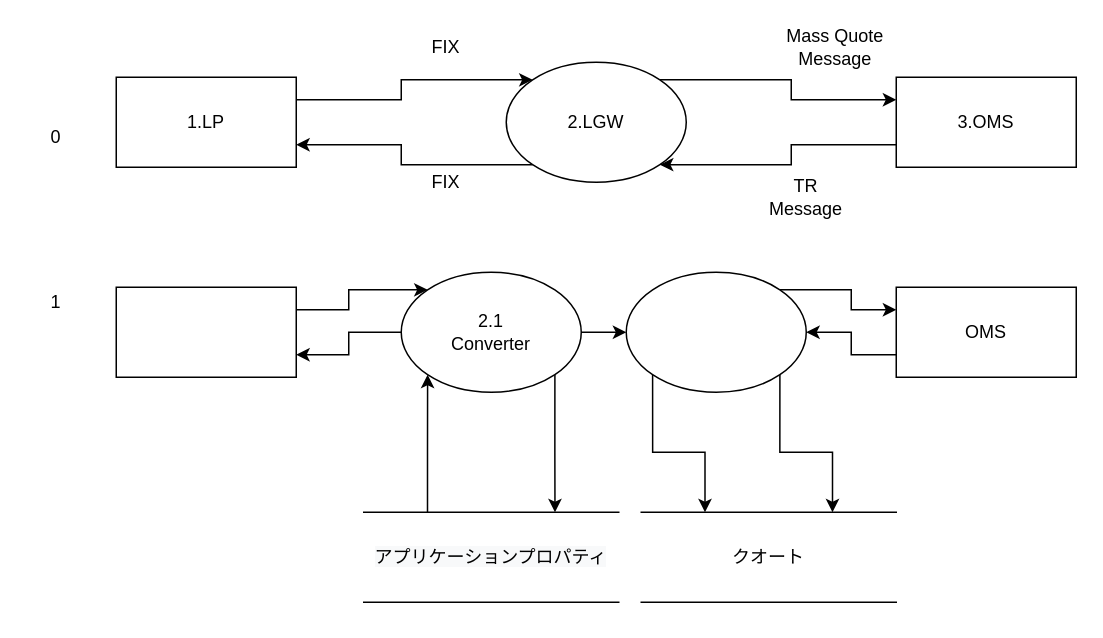
The diagram is 1103 pixels wide and 638 high, and some of its shapes have lost their labels. Here are the shapes that lost their labels. From the top down, the centre of each, then its label:
the point at 205,331: LP FIX
the point at 715,331: 2.2 Bug Rate Filter
